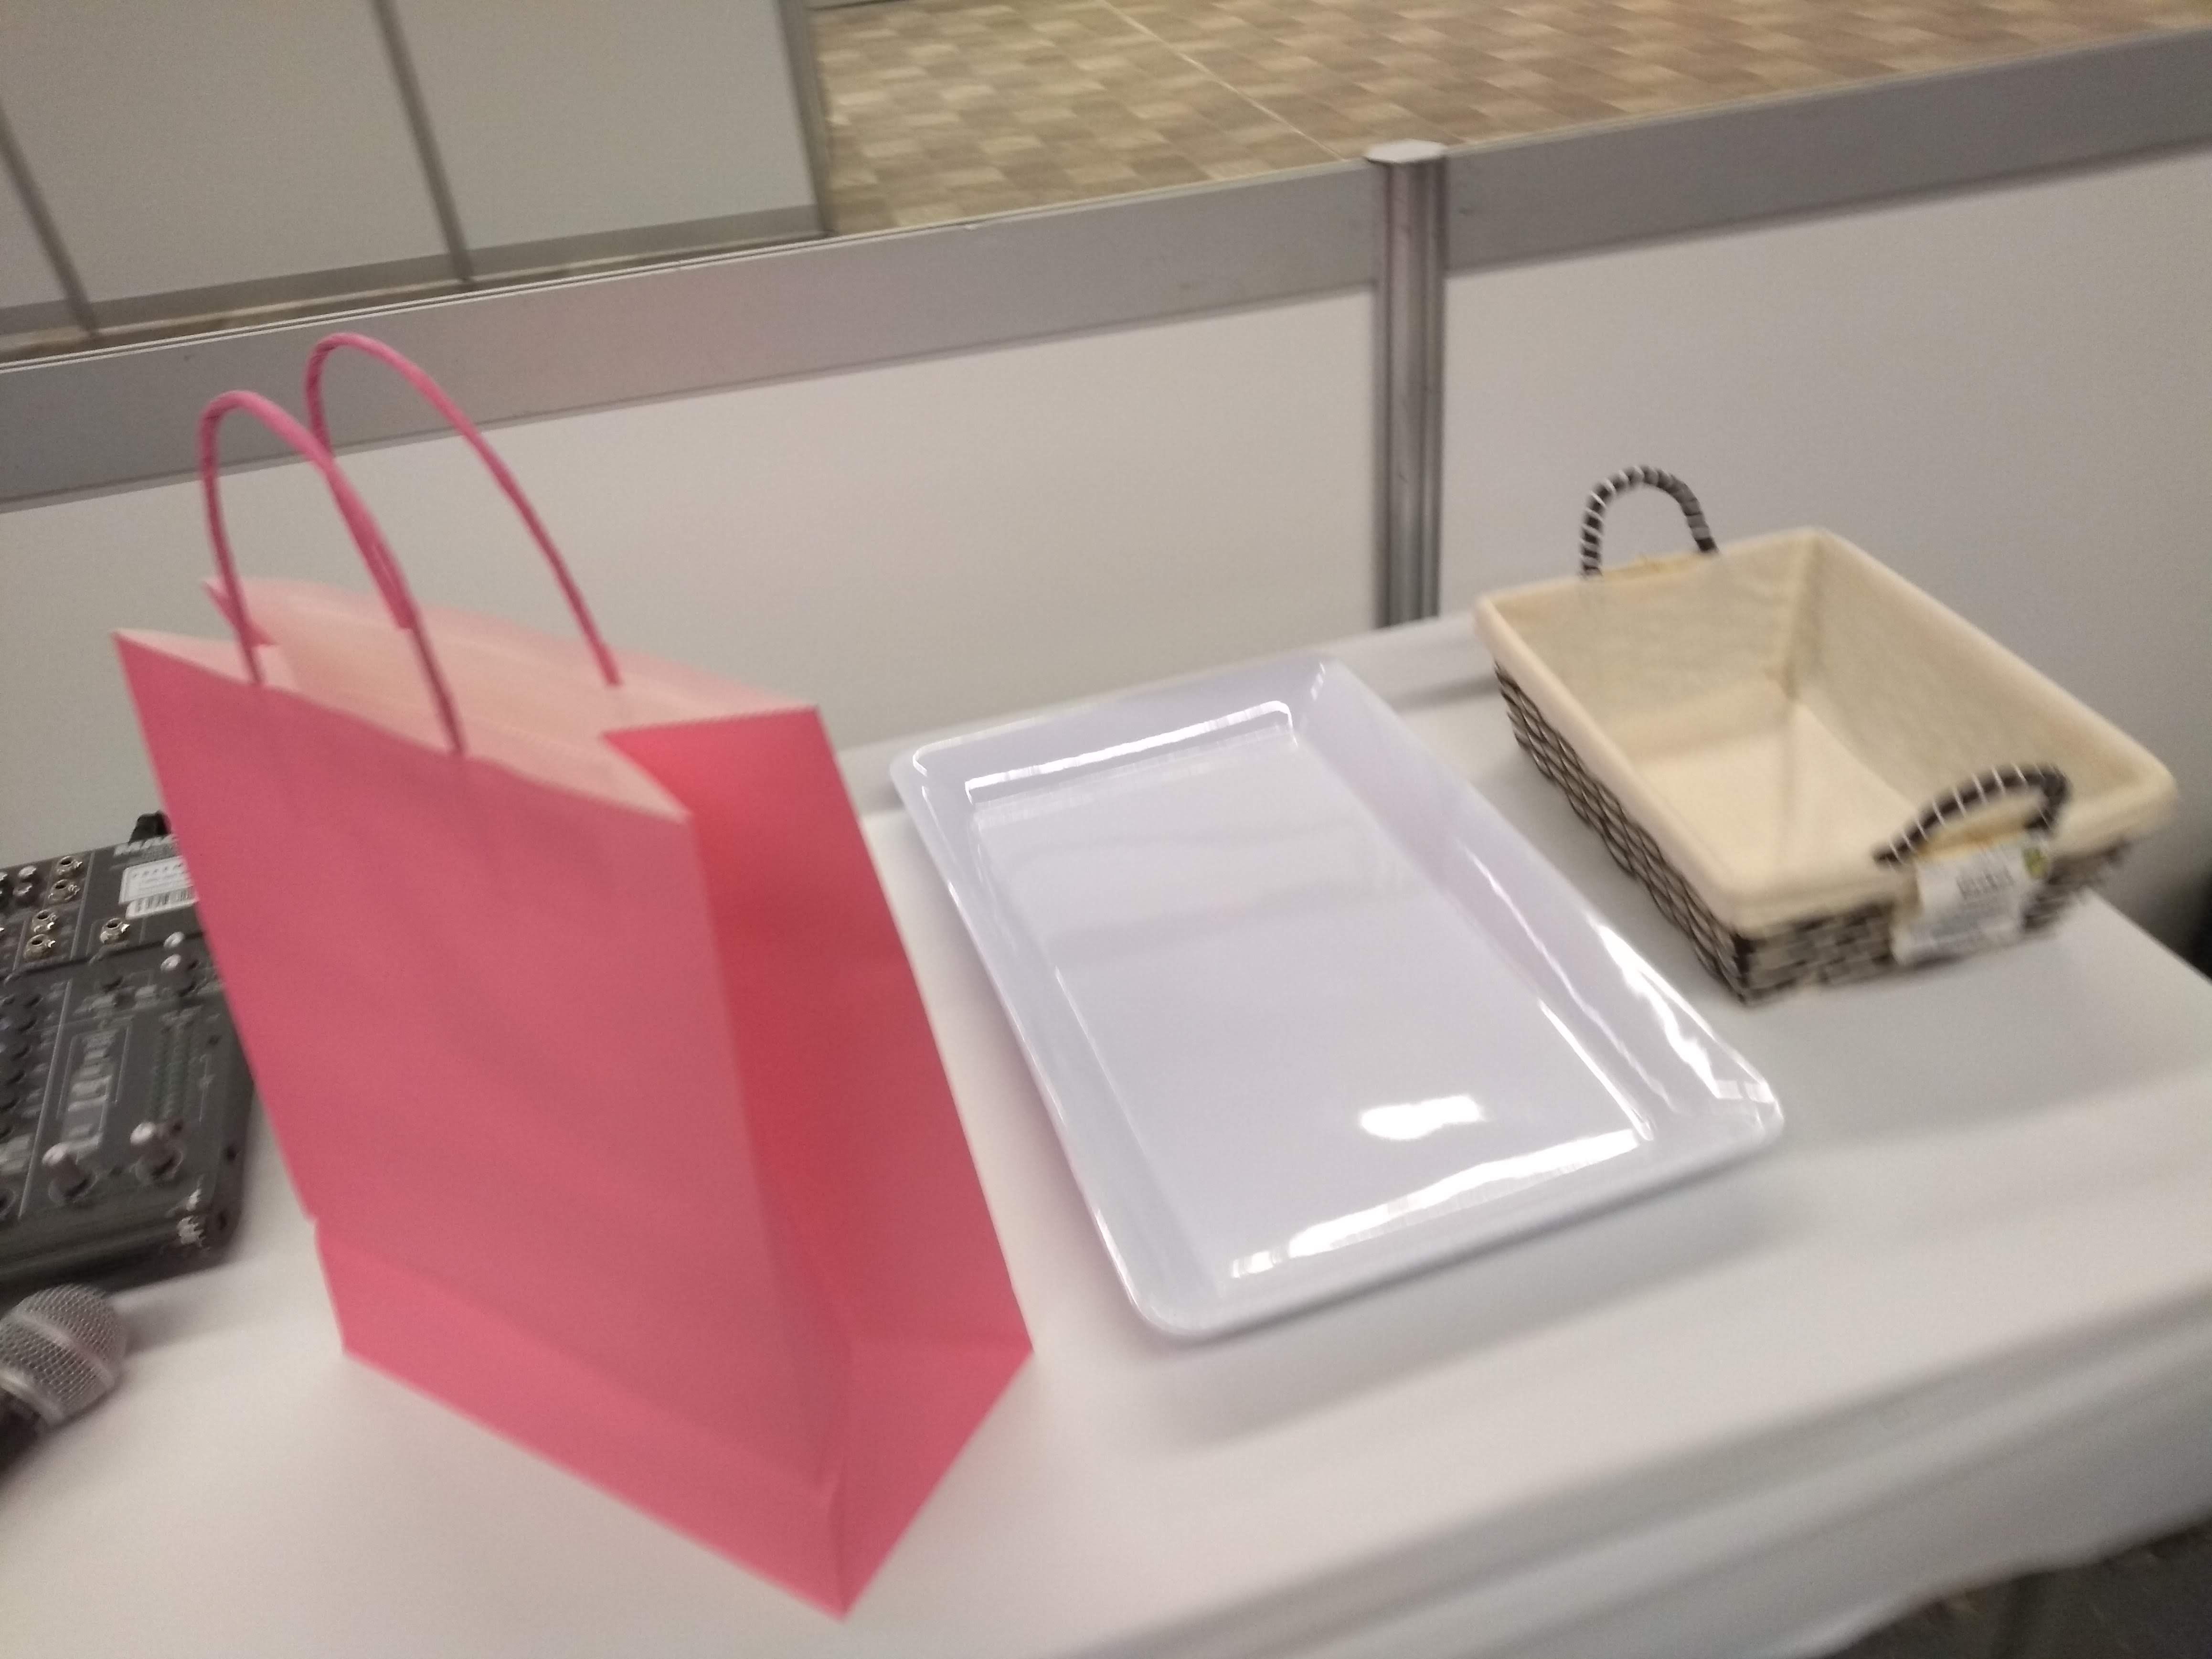basket: (1467, 446, 2184, 1025)
help_me_carry_opl: (106, 336, 1036, 1628)
tray: (871, 640, 1794, 1361)
